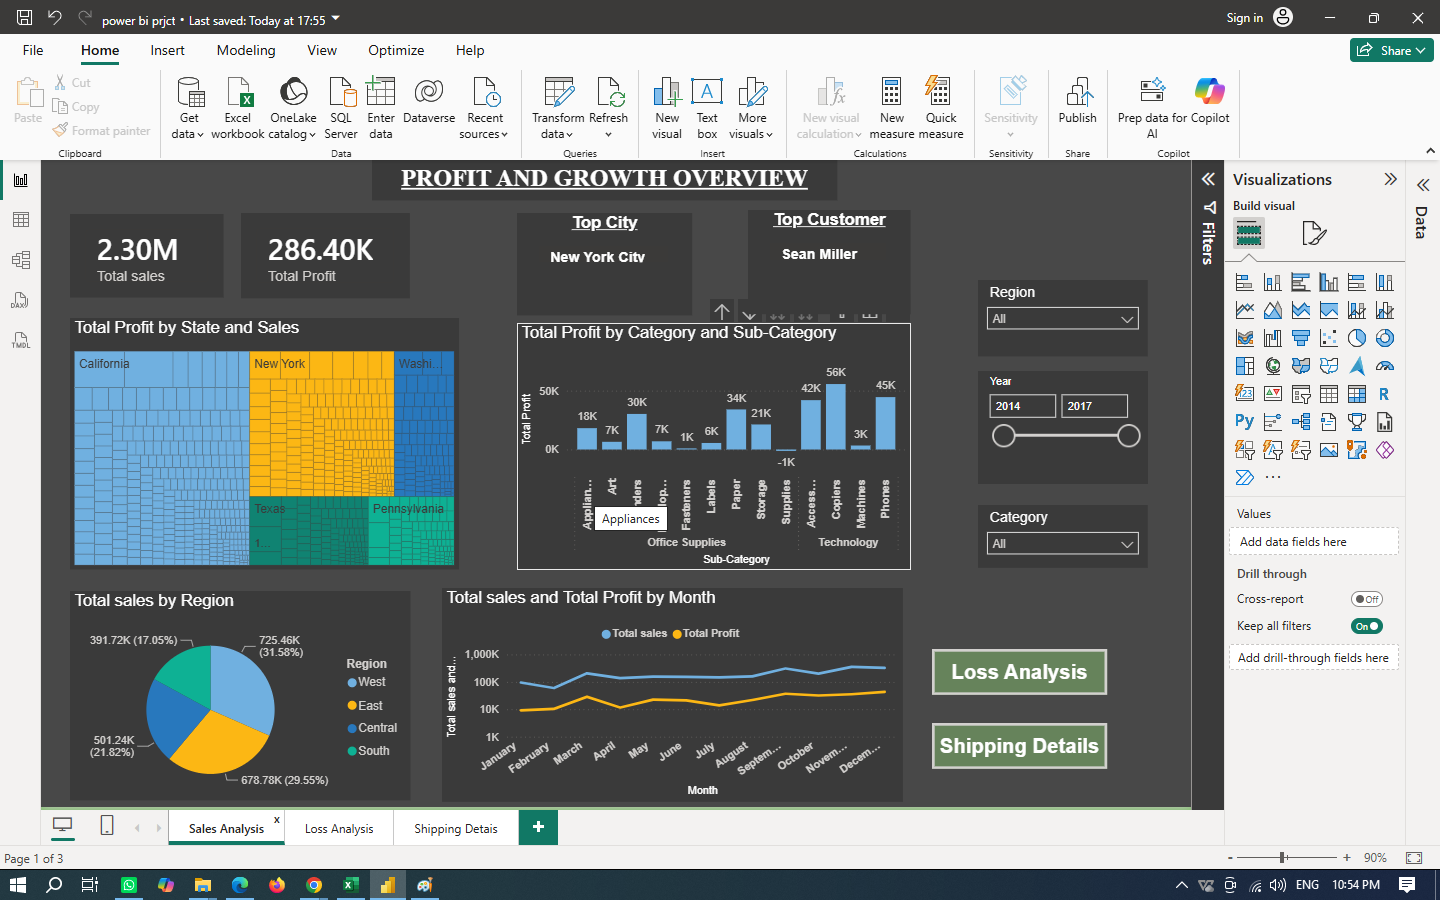

This screenshot's page, from the dashboard's own definition file:
{"tool":"powerbi","page":{"name":"Sales Analysis","canvas":[1280,720],"ordinal":0},"visuals":[{"type":"cardVisual","fields":{"Data":["Measure Table.Total sales"]},"box":[31.9,59.9,171.5,93.4],"z":0},{"type":"cardVisual","fields":{"Data":["Measure Table.Total Profit"]},"box":[223.1,58.6,187.5,95],"z":1000},{"type":"clusteredColumnChart","fields":{"Category":["Cleared Data.Category","Cleared Data.Sub-Category"],"Y":["Measure Table.Total Profit"]},"box":[530.4,181,437.5,275],"z":2000},{"type":"treemap","fields":{"Group":["Cleared Data.State"],"Details":["Cleared Data.Sales"],"Values":["Measure Table.Total Profit"]},"box":[31.9,175.9,432.5,280],"z":3000},{"type":"pieChart","fields":{"Category":["Cleared Data.Region"],"Y":["Measure Table.Total sales"]},"box":[31.9,479.4,378.8,232.5],"z":4000},{"type":"lineChart","fields":{"Y":["Measure Table.Total sales","Measure Table.Total Profit"],"Category":["Cleared Data.Order Date.Variation.Date Hierarchy.Month"]},"box":[446.2,476.8,512.5,237.5],"z":5000},{"type":"slicer","fields":{"Values":["Cleared Data.Year"]},"box":[1042.5,235,188.8,125],"z":6000},{"type":"slicer","fields":{"Values":["Cleared Data.Category"]},"box":[1042.5,383.8,188.8,70],"z":7000},{"type":"slicer","fields":{"Values":["Cleared Data.Region"]},"box":[1042.5,133.8,188.8,85],"z":8000},{"type":"textbox","box":[368.4,0,517.6,44.6],"z":9000},{"type":"cardVisual","title":"Top Customer","fields":{"Rows":["Cleared Data.Customer Name"]},"box":[786.6,56.1,181,116],"z":10000},{"type":"cardVisual","title":"Top City","fields":{"Rows":["Cleared Data.City"]},"box":[530.4,58.6,195,113.8],"z":11000},{"type":"actionButton","box":[991.2,543.8,195,51.2],"z":12000},{"type":"actionButton","box":[991.2,626.2,195,51.2],"z":13000}]}

Visuals, with their boxes on the page's 1280x720 design canvas (x1, y1, x2, y2). These are canvas units, not pixel positions in the 1440x900 screenshot, which may show the page scaled, cropped or inside an application window:
cardVisual - Measure Table.Total sales: crop(32, 60, 203, 153)
cardVisual - Measure Table.Total Profit: crop(223, 59, 411, 154)
clusteredColumnChart - Cleared Data.Category x Cleared Data.Sub-Category: crop(530, 181, 968, 456)
treemap - Cleared Data.State x Cleared Data.Sales: crop(32, 176, 464, 456)
pieChart - Cleared Data.Region x Measure Table.Total sales: crop(32, 479, 411, 712)
lineChart - Measure Table.Total sales x Measure Table.Total Profit: crop(446, 477, 959, 714)
slicer - Cleared Data.Year: crop(1042, 235, 1231, 360)
slicer - Cleared Data.Category: crop(1042, 384, 1231, 454)
slicer - Cleared Data.Region: crop(1042, 134, 1231, 219)
textbox: crop(368, 0, 886, 45)
"Top Customer" cardVisual: crop(787, 56, 968, 172)
"Top City" cardVisual: crop(530, 59, 725, 172)
actionButton: crop(991, 544, 1186, 595)
actionButton: crop(991, 626, 1186, 677)
